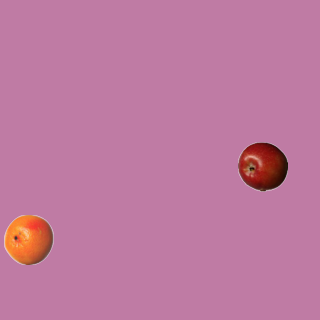Apple Braeburn: (237, 141, 287, 191)
Grapefruit Pink: (3, 214, 53, 264)
